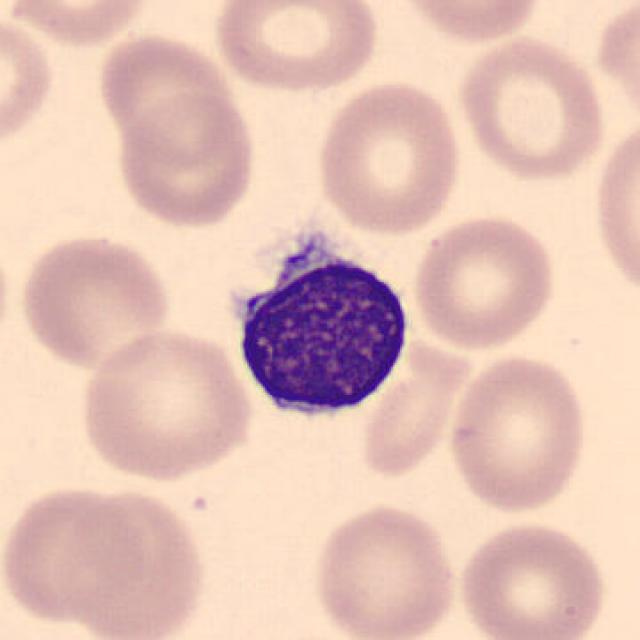Lymphocyte: (221, 217, 423, 435)
RBC: (75, 324, 258, 485), (311, 76, 466, 238), (443, 349, 592, 517), (55, 485, 212, 640), (453, 32, 610, 183), (14, 229, 176, 374), (0, 480, 151, 631), (308, 499, 464, 640), (409, 210, 560, 352), (112, 88, 260, 229), (453, 516, 611, 640), (92, 28, 240, 155), (208, 0, 386, 95), (588, 109, 638, 307), (0, 10, 57, 157), (3, 0, 156, 49), (390, 0, 550, 46), (592, 0, 638, 134)
